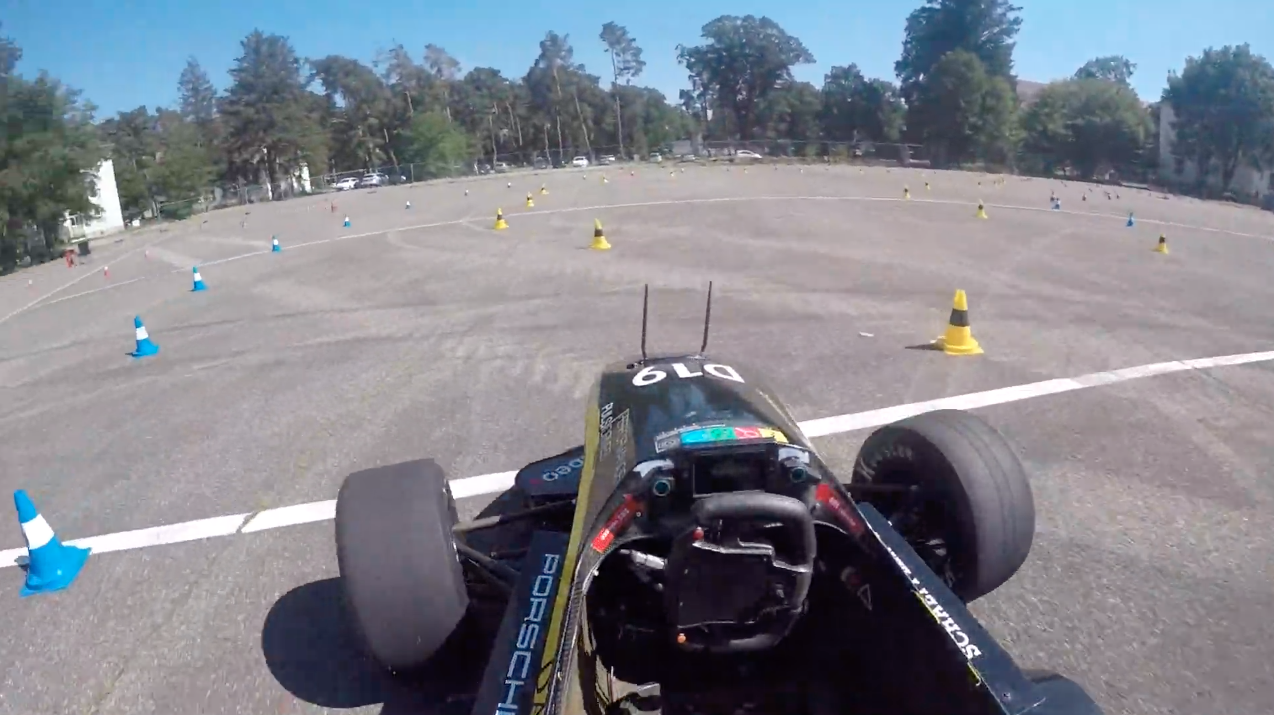lcone: (4, 488, 98, 600), (125, 309, 161, 362), (188, 263, 210, 294)
rcone: (929, 284, 987, 359), (587, 214, 615, 253), (490, 203, 511, 233)
